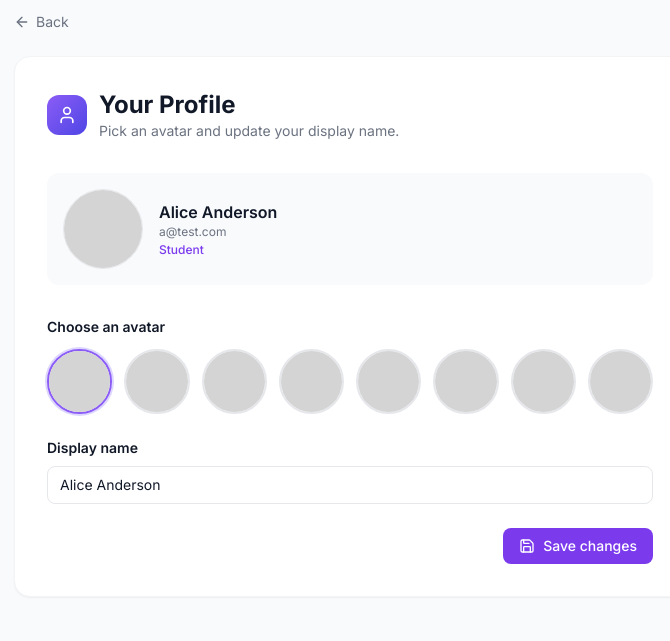
Scenario: Profile — FEAT-013 › AC-13.2.3: on failure renders Supabase error and leaves form editable
Click the button "Save changes": (578, 546) [503,528,653,564]
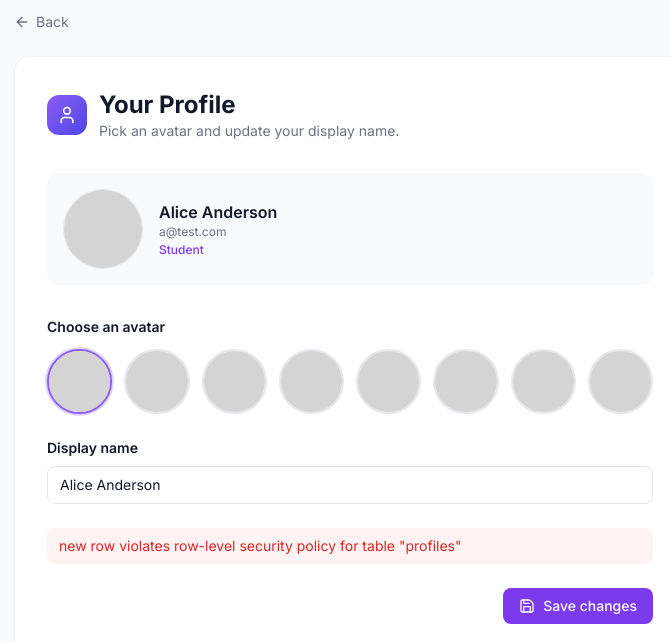
Check: the field labelled "Display name" is enabled, box [47,466,653,504]
Check: the text "row-level security policy for table \"profiles\"" is shown, box [59,537,462,554]
